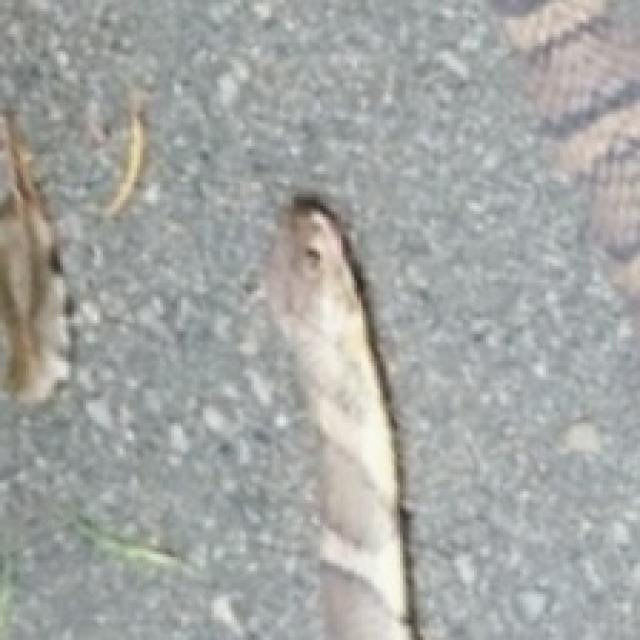king cobra: (266, 197, 411, 637)
